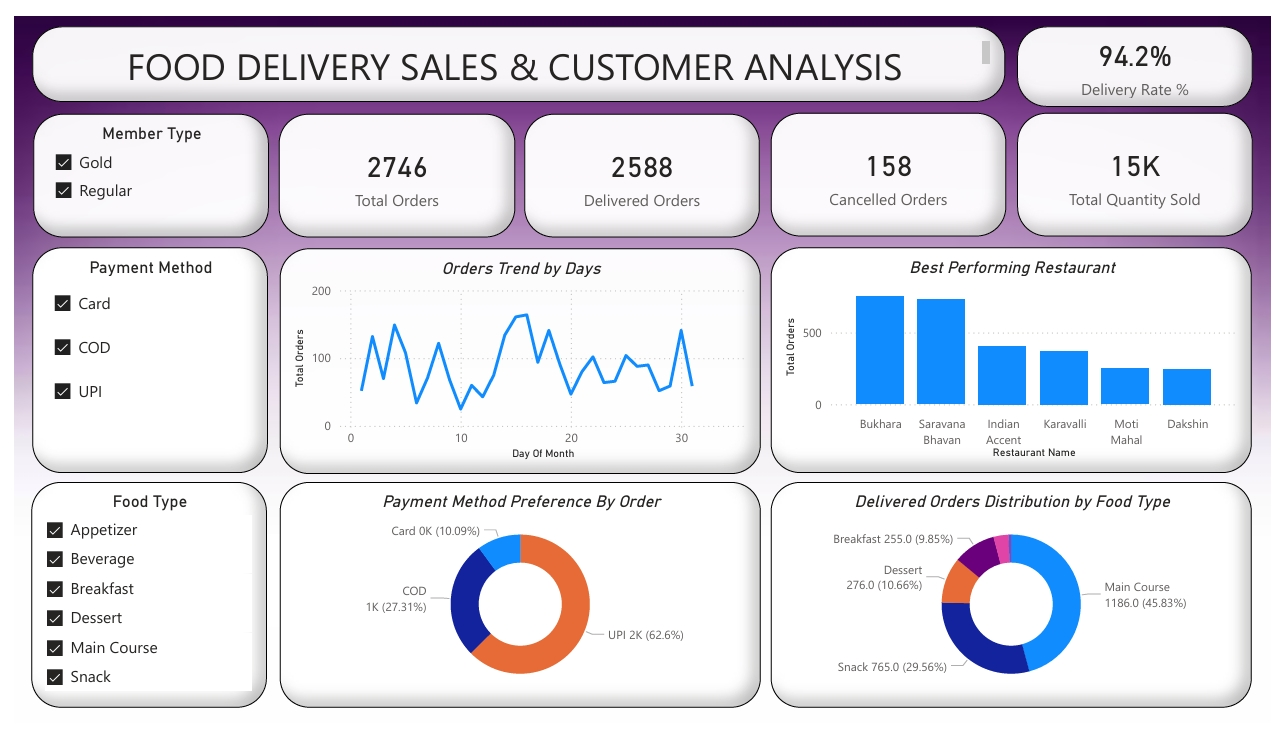

The page's visual inventory and layout, read from the dashboard file:
{"tool":"powerbi","page":{"name":"Page 1","canvas":[1280,720],"ordinal":0},"visuals":[{"type":"card","fields":{"Values":["Monthly Order Data-20250527T064803Z-1-001.Total Orders"]},"box":[269.3,98.5,240.4,126.1],"z":0},{"type":"card","fields":{"Values":["Monthly Order Data-20250527T064803Z-1-001.cancelled orders"]},"box":[770,98,240,126.2],"z":1000},{"type":"card","fields":{"Values":["Monthly Order Data-20250527T064803Z-1-001.total quntity sold"]},"box":[1021,98,240.4,126.1],"z":2000},{"type":"card","fields":{"Values":["Monthly Order Data-20250527T064803Z-1-001.Deliverd Orders"]},"box":[519,98.5,240.4,126.1],"z":3000},{"type":"donutChart","title":"Delivered Orders Distribution by Food Type","fields":{"Category":["Food_Details.Food_Type"],"Y":["Monthly Order Data-20250527T064803Z-1-001.Deliverd Orders"]},"box":[770,474,490,230],"z":4000},{"type":"columnChart","title":"Best Performing Restaurant","fields":{"Category":["Resturant_Details.Resturant_Name"],"Y":["Monthly Order Data-20250527T064803Z-1-001.Total Orders"]},"box":[770,235,490,230],"z":5000},{"type":"textbox","box":[32.8,528,356.7,94.2],"z":6000},{"type":"slicer","title":"Member Type","fields":{"Values":["Customer Details.member_Type"]},"box":[18.6,98.6,240,126],"z":7000},{"type":"textbox","box":[18,10,991.4,77],"z":8000},{"type":"lineChart","title":" Orders Trend by Days","fields":{"Category":["Monthly Order Data-20250527T064803Z-1-001.orderDate.Variation.Date Hierarchy.Day"],"Y":["Monthly Order Data-20250527T064803Z-1-001.Total Orders"]},"box":[270,235.7,490,230],"z":9000},{"type":"donutChart","title":"Payment Method  Preference By Order","fields":{"Category":["Monthly Order Data-20250527T064803Z-1-001.payment_method"],"Y":["Monthly Order Data-20250527T064803Z-1-001.Total Orders"]},"box":[270,474.3,490,230],"z":10000},{"type":"slicer","title":"Payment Method","fields":{"Values":["Monthly Order Data-20250527T064803Z-1-001.payment_method"]},"box":[17.5,235,240,230],"z":11000},{"type":"listSlicer","title":"Food Type","fields":{"Values":["Food_Details.Food_Type"]},"box":[17.1,474,240,230],"z":12000},{"type":"card","fields":{"Values":["Monthly Order Data-20250527T064803Z-1-001.Delivery_rate %"]},"box":[1021.4,10,240,82],"z":13000}]}

Visuals, with their boxes in screenshot pixels (x1, y1, x2, y2), scaled from the page's 1280x720 canvas onto the 1283x738 screenshot:
card - Monthly Order Data-20250527T064803Z-1-001.Total Orders: bbox(270, 101, 511, 230)
card - Monthly Order Data-20250527T064803Z-1-001.cancelled orders: bbox(772, 100, 1012, 230)
card - Monthly Order Data-20250527T064803Z-1-001.total quntity sold: bbox(1023, 100, 1264, 230)
card - Monthly Order Data-20250527T064803Z-1-001.Deliverd Orders: bbox(520, 101, 761, 230)
"Delivered Orders Distribution by Food Type" donutChart: bbox(772, 486, 1263, 722)
"Best Performing Restaurant" columnChart: bbox(772, 241, 1263, 477)
textbox: bbox(33, 541, 390, 638)
"Member Type" slicer: bbox(19, 101, 259, 230)
textbox: bbox(18, 10, 1012, 89)
" Orders Trend by Days" lineChart: bbox(271, 242, 762, 477)
"Payment Method  Preference By Order" donutChart: bbox(271, 486, 762, 722)
"Payment Method" slicer: bbox(18, 241, 258, 477)
"Food Type" listSlicer: bbox(17, 486, 258, 722)
card - Monthly Order Data-20250527T064803Z-1-001.Delivery_rate %: bbox(1024, 10, 1264, 94)
